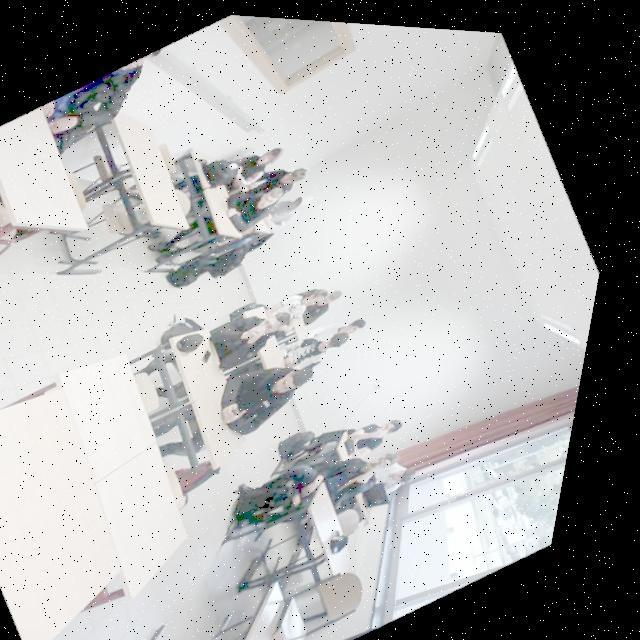phone_use: (221, 333, 346, 432), (283, 318, 363, 379), (269, 196, 301, 223)
